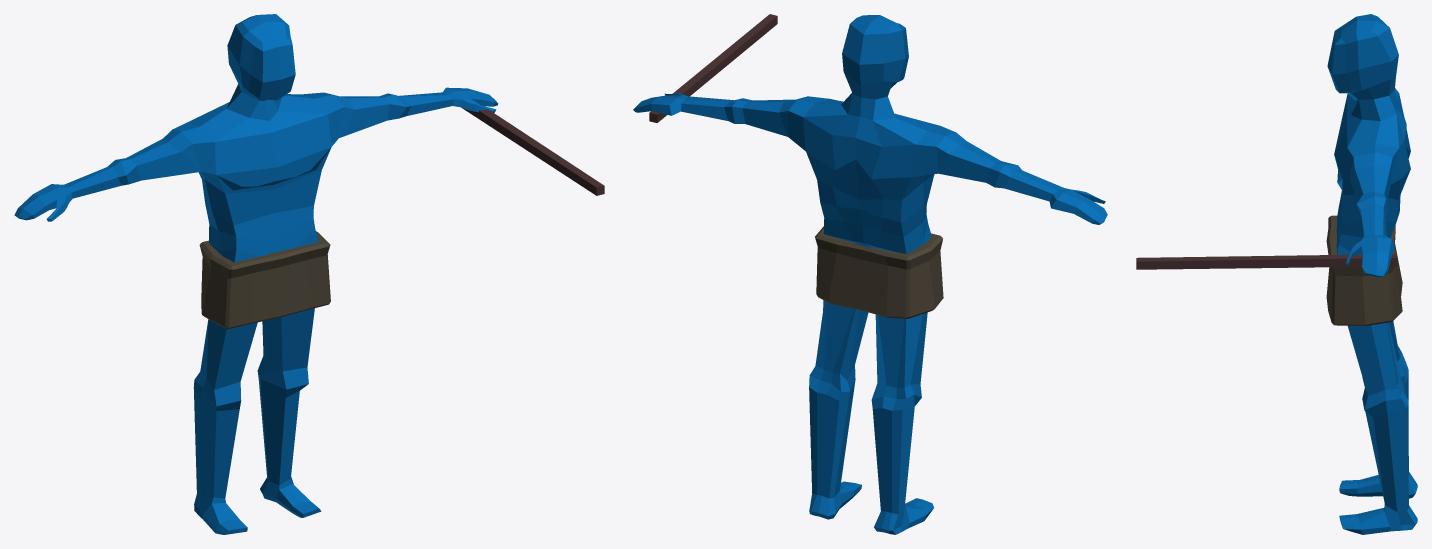
The model's file is mergeHuman1.fbx.
The picture shows the model from 3 angles, left to right: view 1: azimuth 30°, elevation 25°; view 2: azimuth 150°, elevation 25°; view 3: azimuth 270°, elevation 25°; orthographic projection. The views are drawn at different scales.
Visible parts, largest first — view 1: Cube, Cube.001, Cube.002; view 2: Cube, Cube.001, Cube.002; view 3: Cube, Cube.001, Cube.002.
Part boxes in pixels (<box>): Cube: <box>14,14,498,534</box>; Cube.001: <box>199,231,330,329</box>; Cube.002: <box>462,104,604,195</box>; Cube: <box>633,15,1107,534</box>; Cube.001: <box>815,226,943,318</box>; Cube.002: <box>649,14,777,122</box>; Cube: <box>1327,14,1417,534</box>; Cube.001: <box>1326,215,1402,325</box>; Cube.002: <box>1136,254,1396,269</box>.
Bounding box in the file's own units: 56.65 × 56.97 × 29.53.
